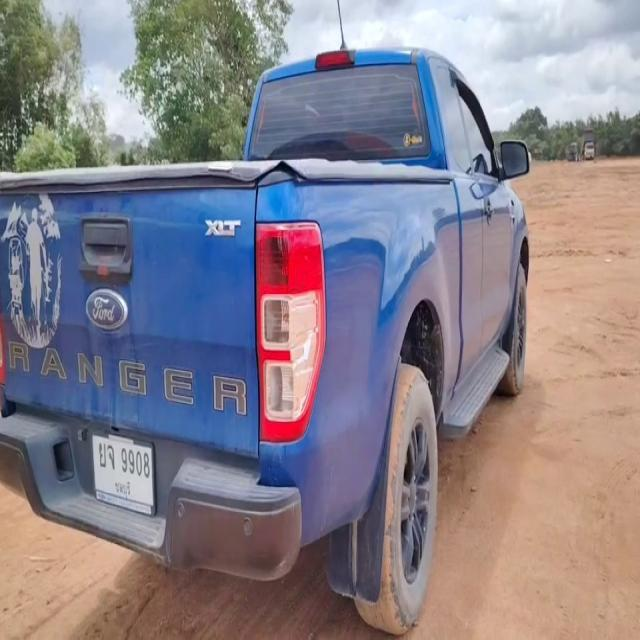Digit: (121, 444, 151, 479)
Licenseplate: (90, 430, 156, 518)
Provincename: (113, 478, 133, 499)
Thaichar: (100, 441, 114, 471)
